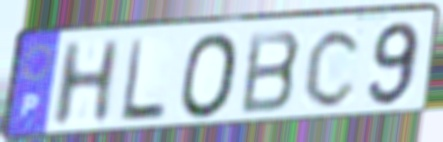9: (365, 19, 424, 109)
B: (238, 28, 305, 117)
C: (301, 25, 366, 111)
H: (47, 37, 125, 132)
L: (117, 37, 169, 126)
O: (178, 30, 242, 121)
